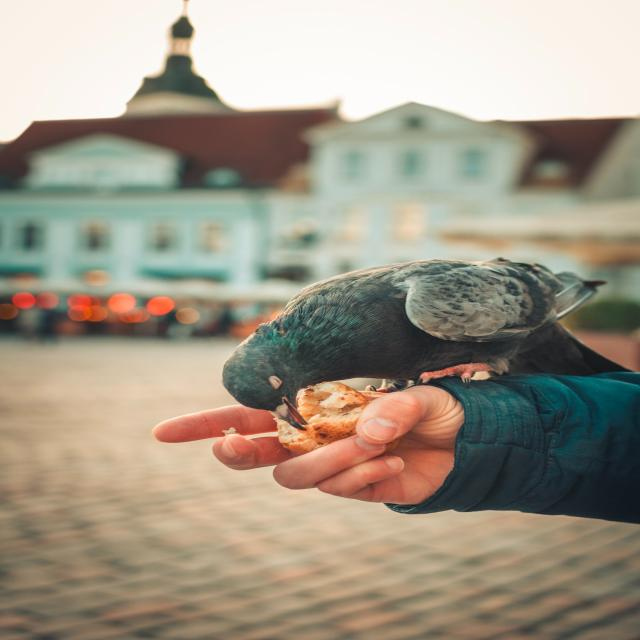pigeon: (196, 208, 634, 422)
